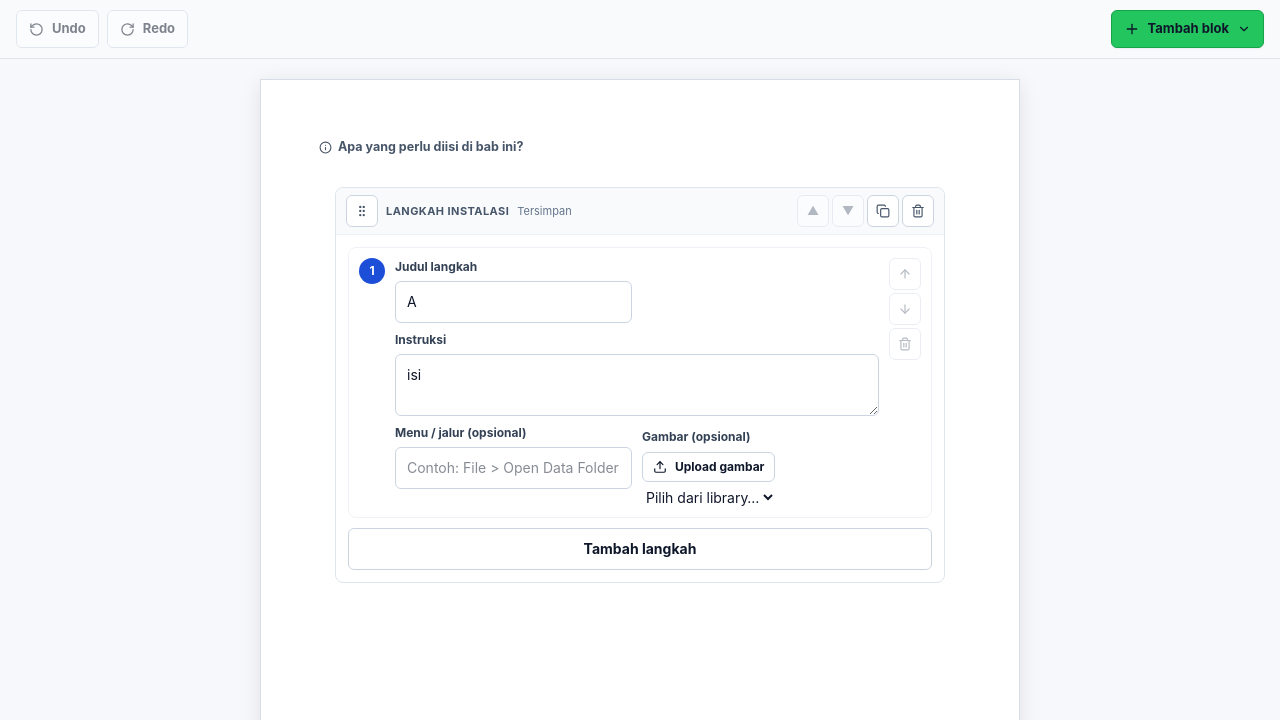
Test: SectionEditor autosave — single-session conflict UX (AC-P3 fix) › F2. 'Muat versi terbaru' replaces local content with the server version
This screenshot has width=1280, height=720.
Replace the text in the field labelled "Judul langkah" with "mine v1": (514, 302) top-left (395, 281), bottom-right (632, 323)
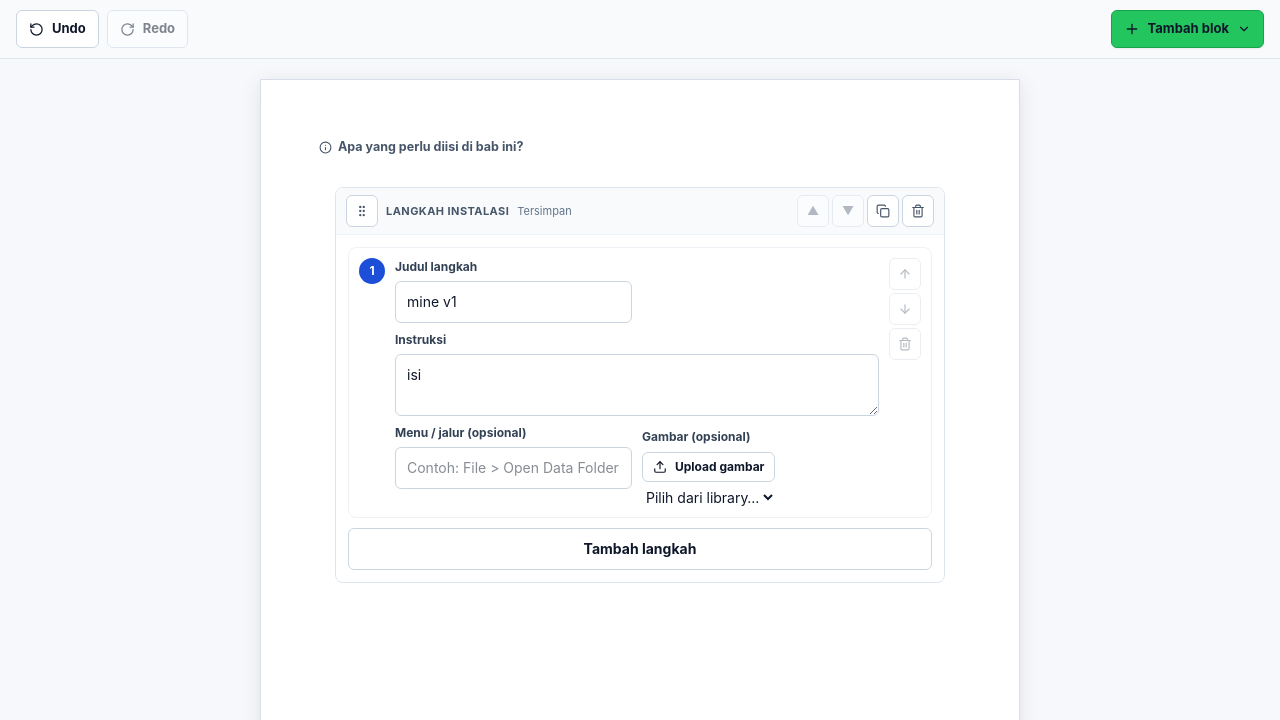
Replace the text in the field labelled "Judul langkah" with "mine v2": (514, 302) top-left (395, 281), bottom-right (632, 323)
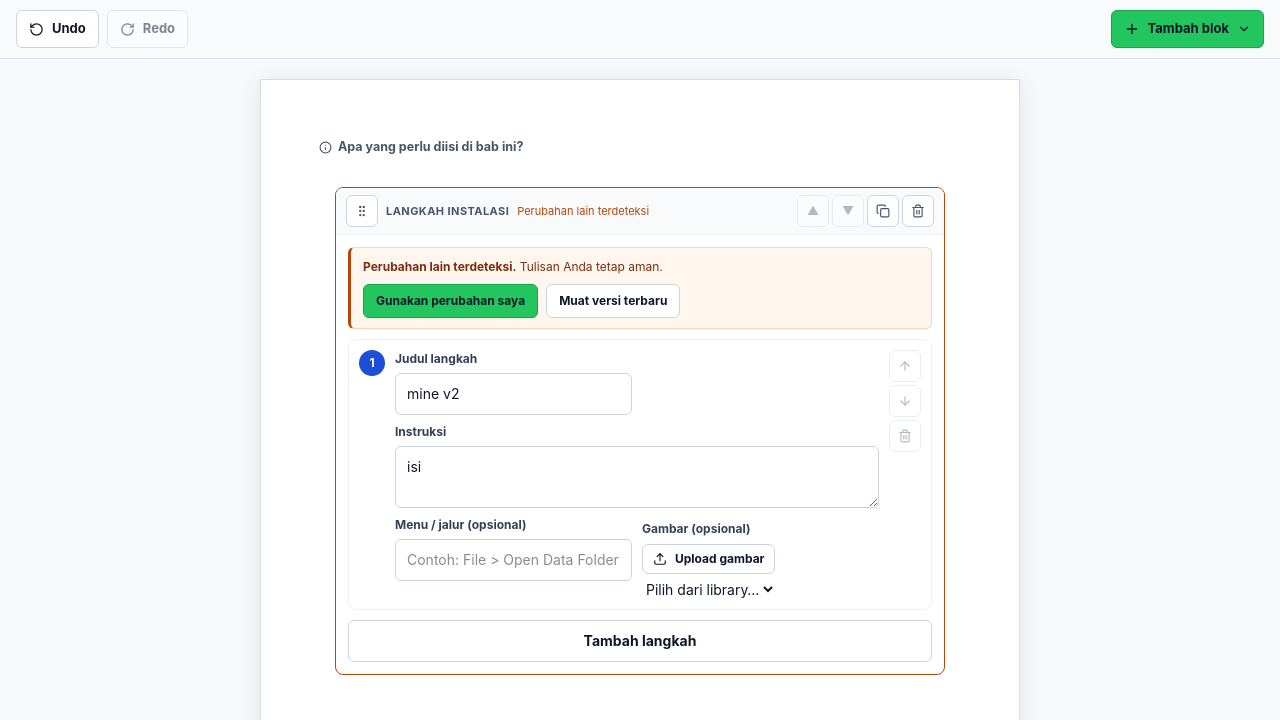
Expected: the message that starts with "Perubahan lain terdeteksi." is shown, top-left (348, 247), bottom-right (932, 329)
Expected: the text "Perubahan lain terdeteksi." is shown, top-left (363, 259), bottom-right (516, 274)
Click the button "Muat versi terbaru": (613, 301) top-left (546, 284), bottom-right (680, 318)
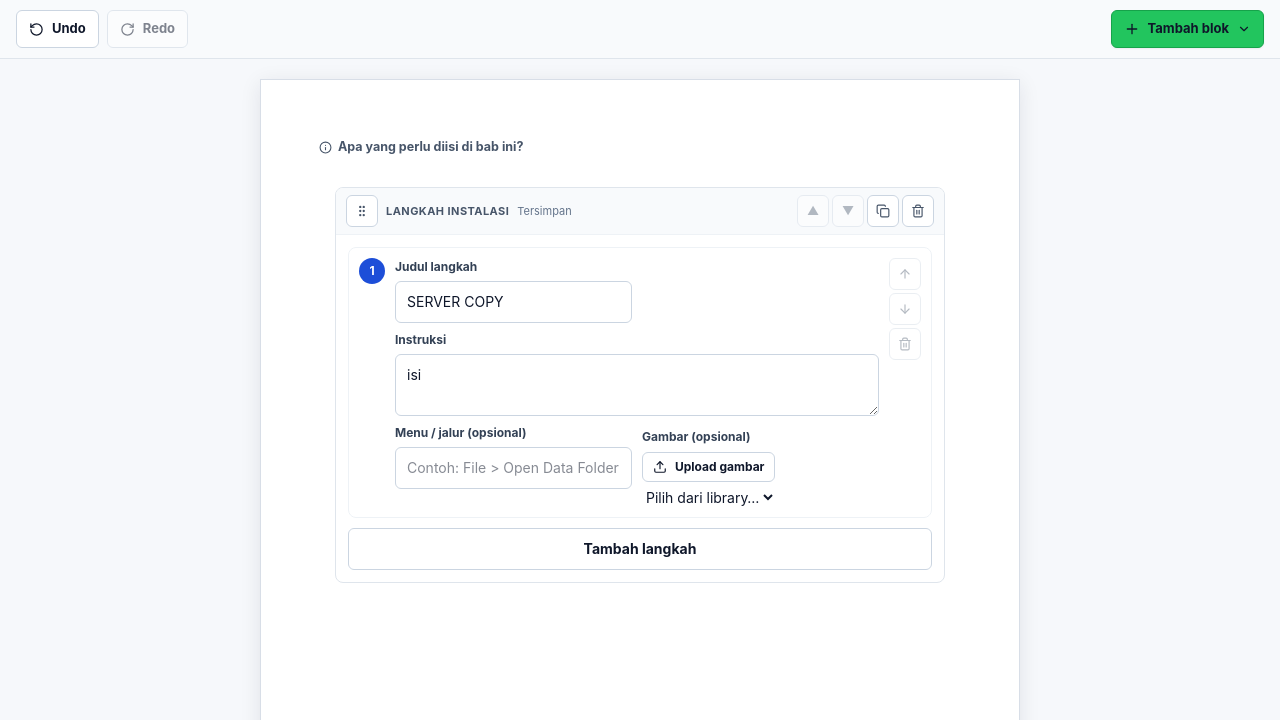
Expected: the field labelled "Judul langkah" holds "SERVER COPY", top-left (395, 281), bottom-right (632, 323)
